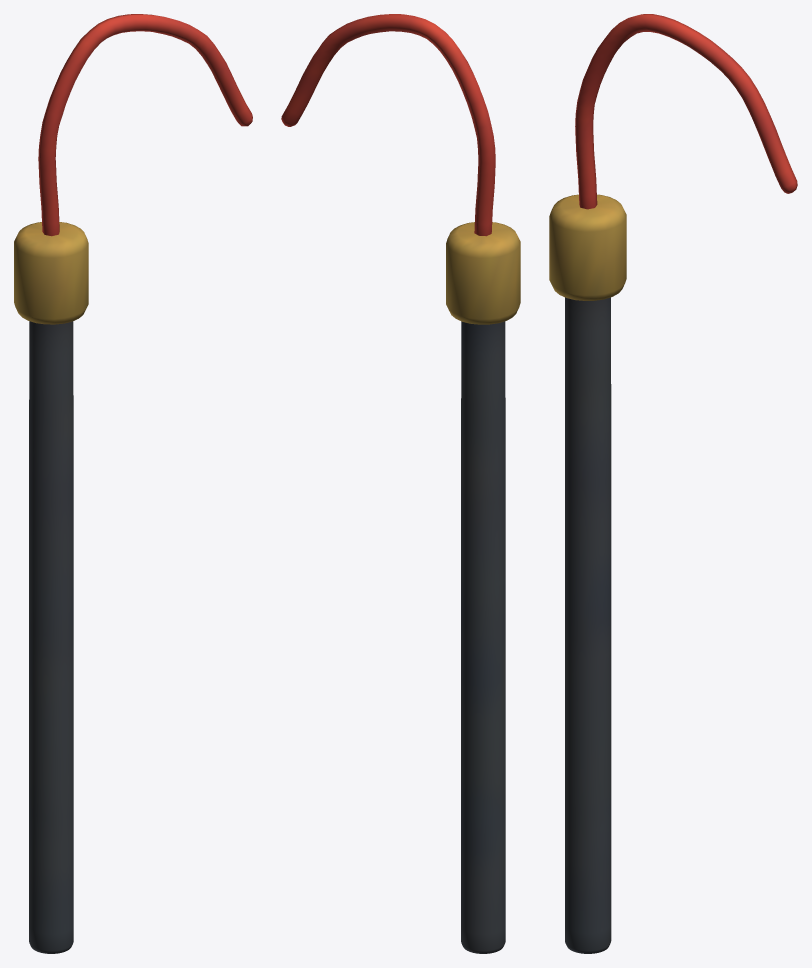
Rendered from electrode.glb.
3 views of the same model, side by side, from view 1: azimuth 30°, elevation 25°; view 2: azimuth 150°, elevation 25°; view 3: azimuth 330°, elevation 25° (orthographic). The views are drawn at different scales.
Visible parts, largest first — view 1: electrode-rod, electrode-wire, electrode-cap; view 2: electrode-rod, electrode-wire, electrode-cap; view 3: electrode-rod, electrode-wire, electrode-cap.
Part boxes in pixels (x1,y1,x2,y2): electrode-rod: [29, 321, 73, 953]; electrode-wire: [38, 14, 252, 236]; electrode-cap: [14, 222, 88, 324]; electrode-rod: [461, 321, 505, 953]; electrode-wire: [281, 14, 495, 236]; electrode-cap: [446, 222, 520, 324]; electrode-rod: [565, 297, 611, 953]; electrode-wire: [575, 14, 797, 209]; electrode-cap: [549, 194, 626, 300].
Size of what is drawn, in the model's own units: 3.62 by 13.55 by 0.9844.
